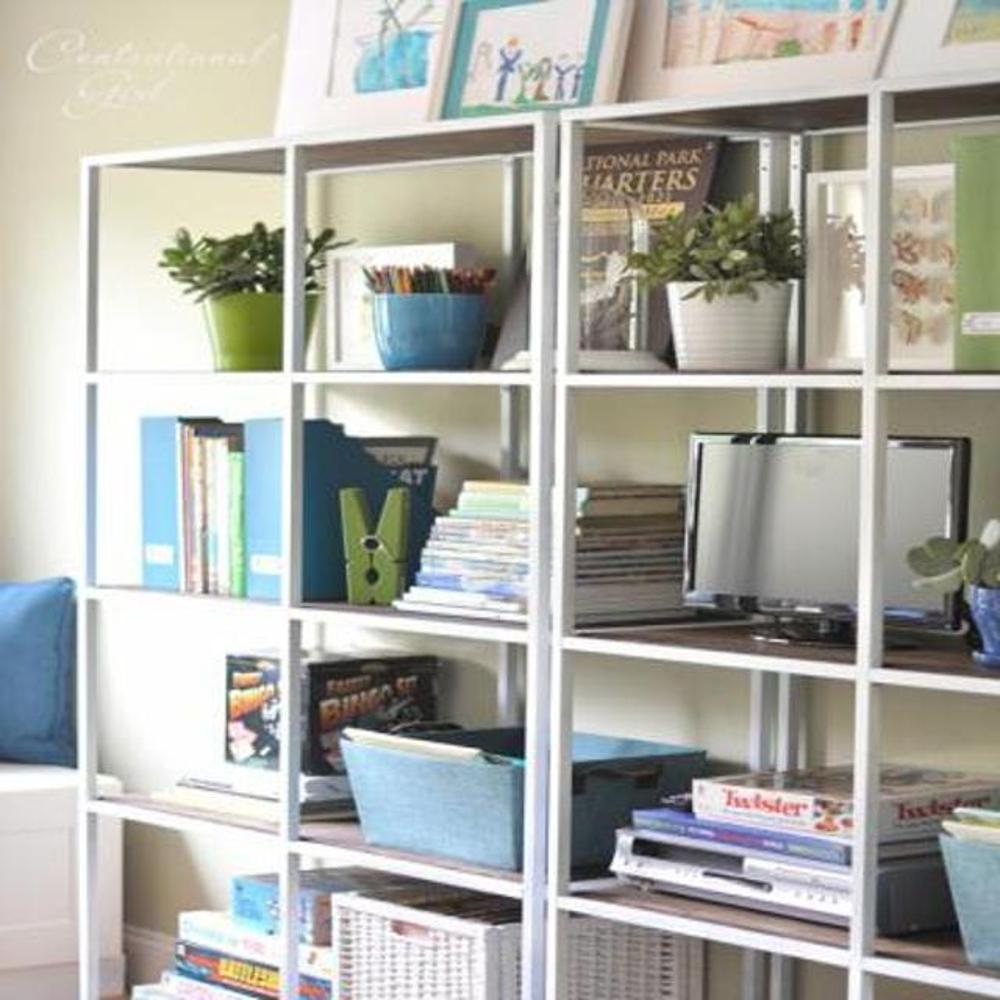lamp: (79, 108, 788, 998), (557, 71, 998, 999)
